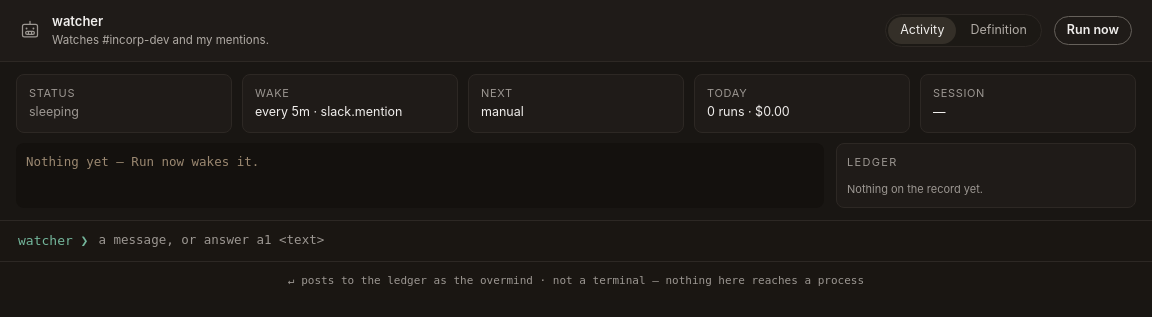
AgentPage — Run now › a queued run shows agentRunQueued's sentence on Activity
Click the button "Run now" at (1093, 30), box [1054,16,1132,45]
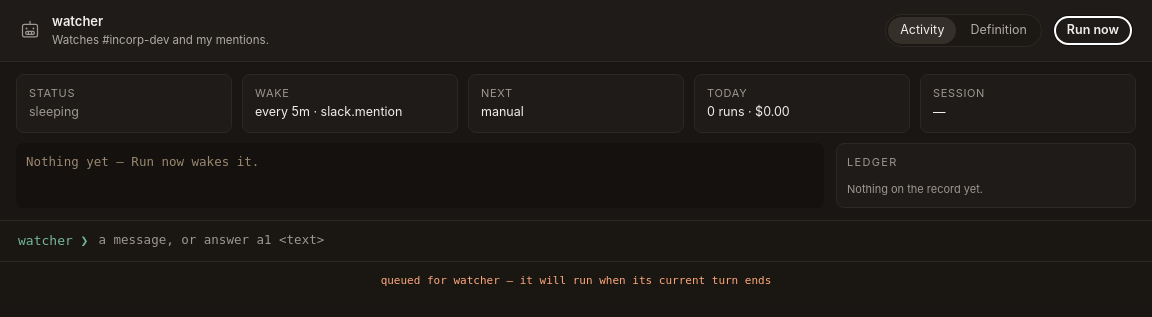
Check: the text "queued for watcher — it will run when its current turn ends" is shown, box [0,260,1151,300]
